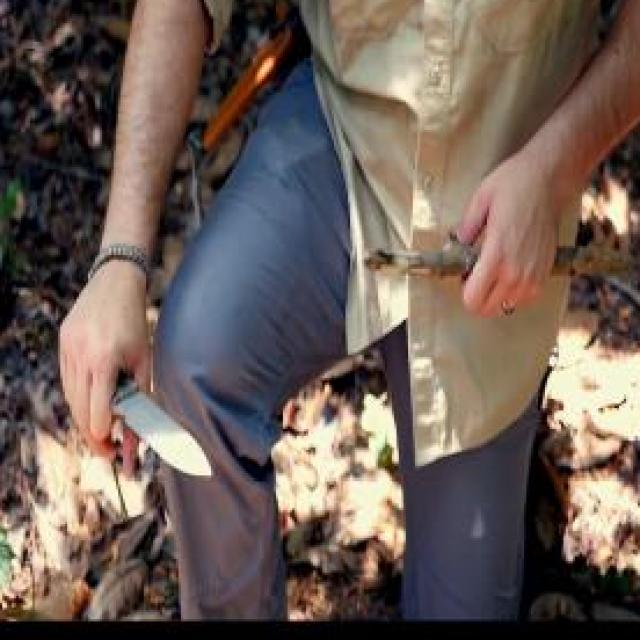knife: (55, 320, 216, 485)
